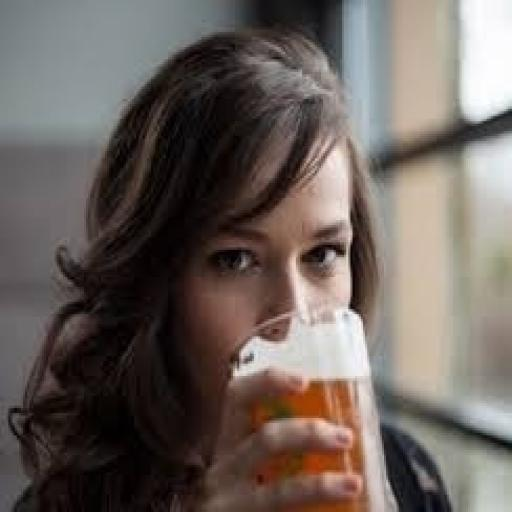drinking: (224, 304, 396, 510)
